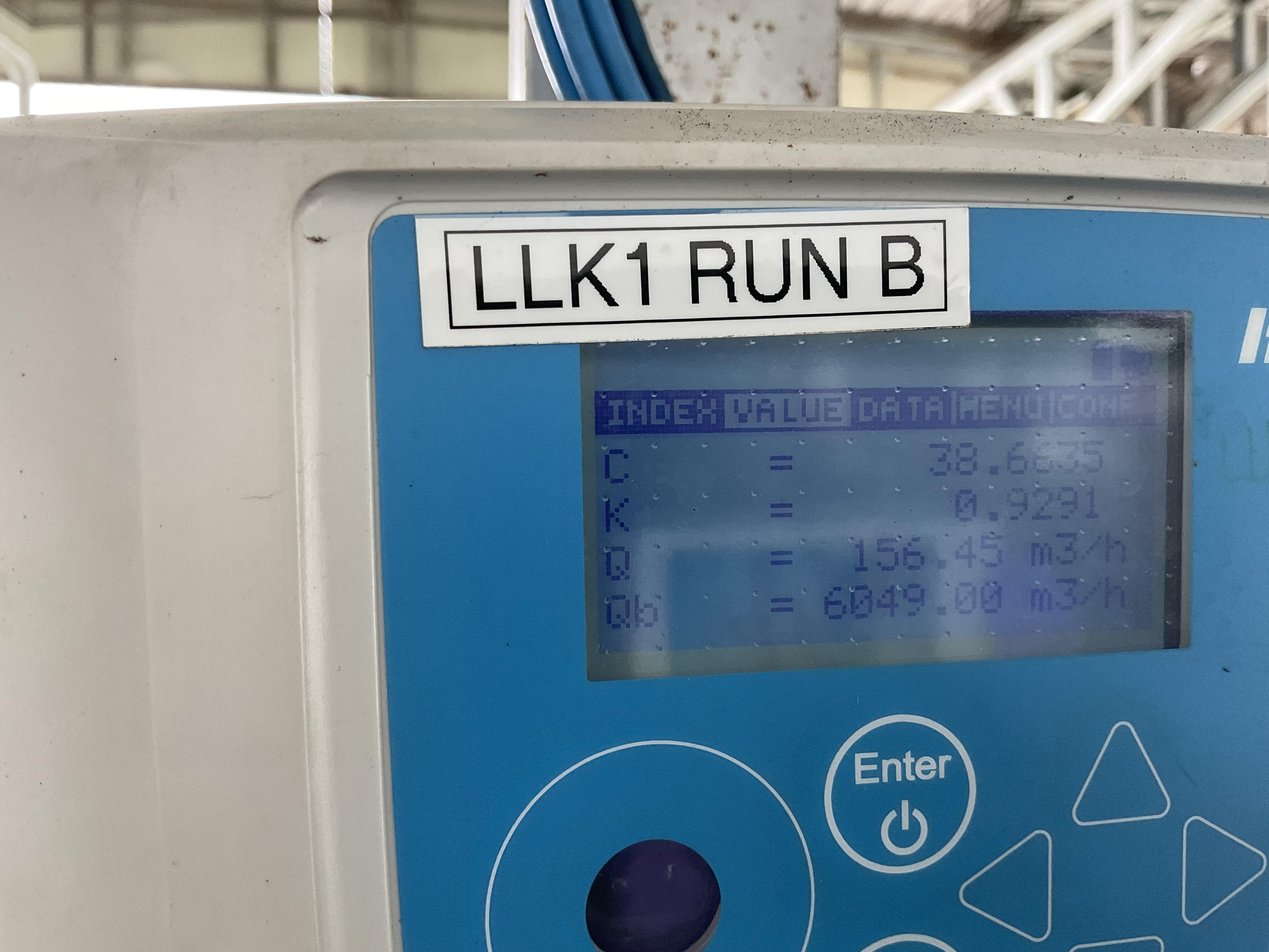digital_screen: (582, 311, 1197, 681)
